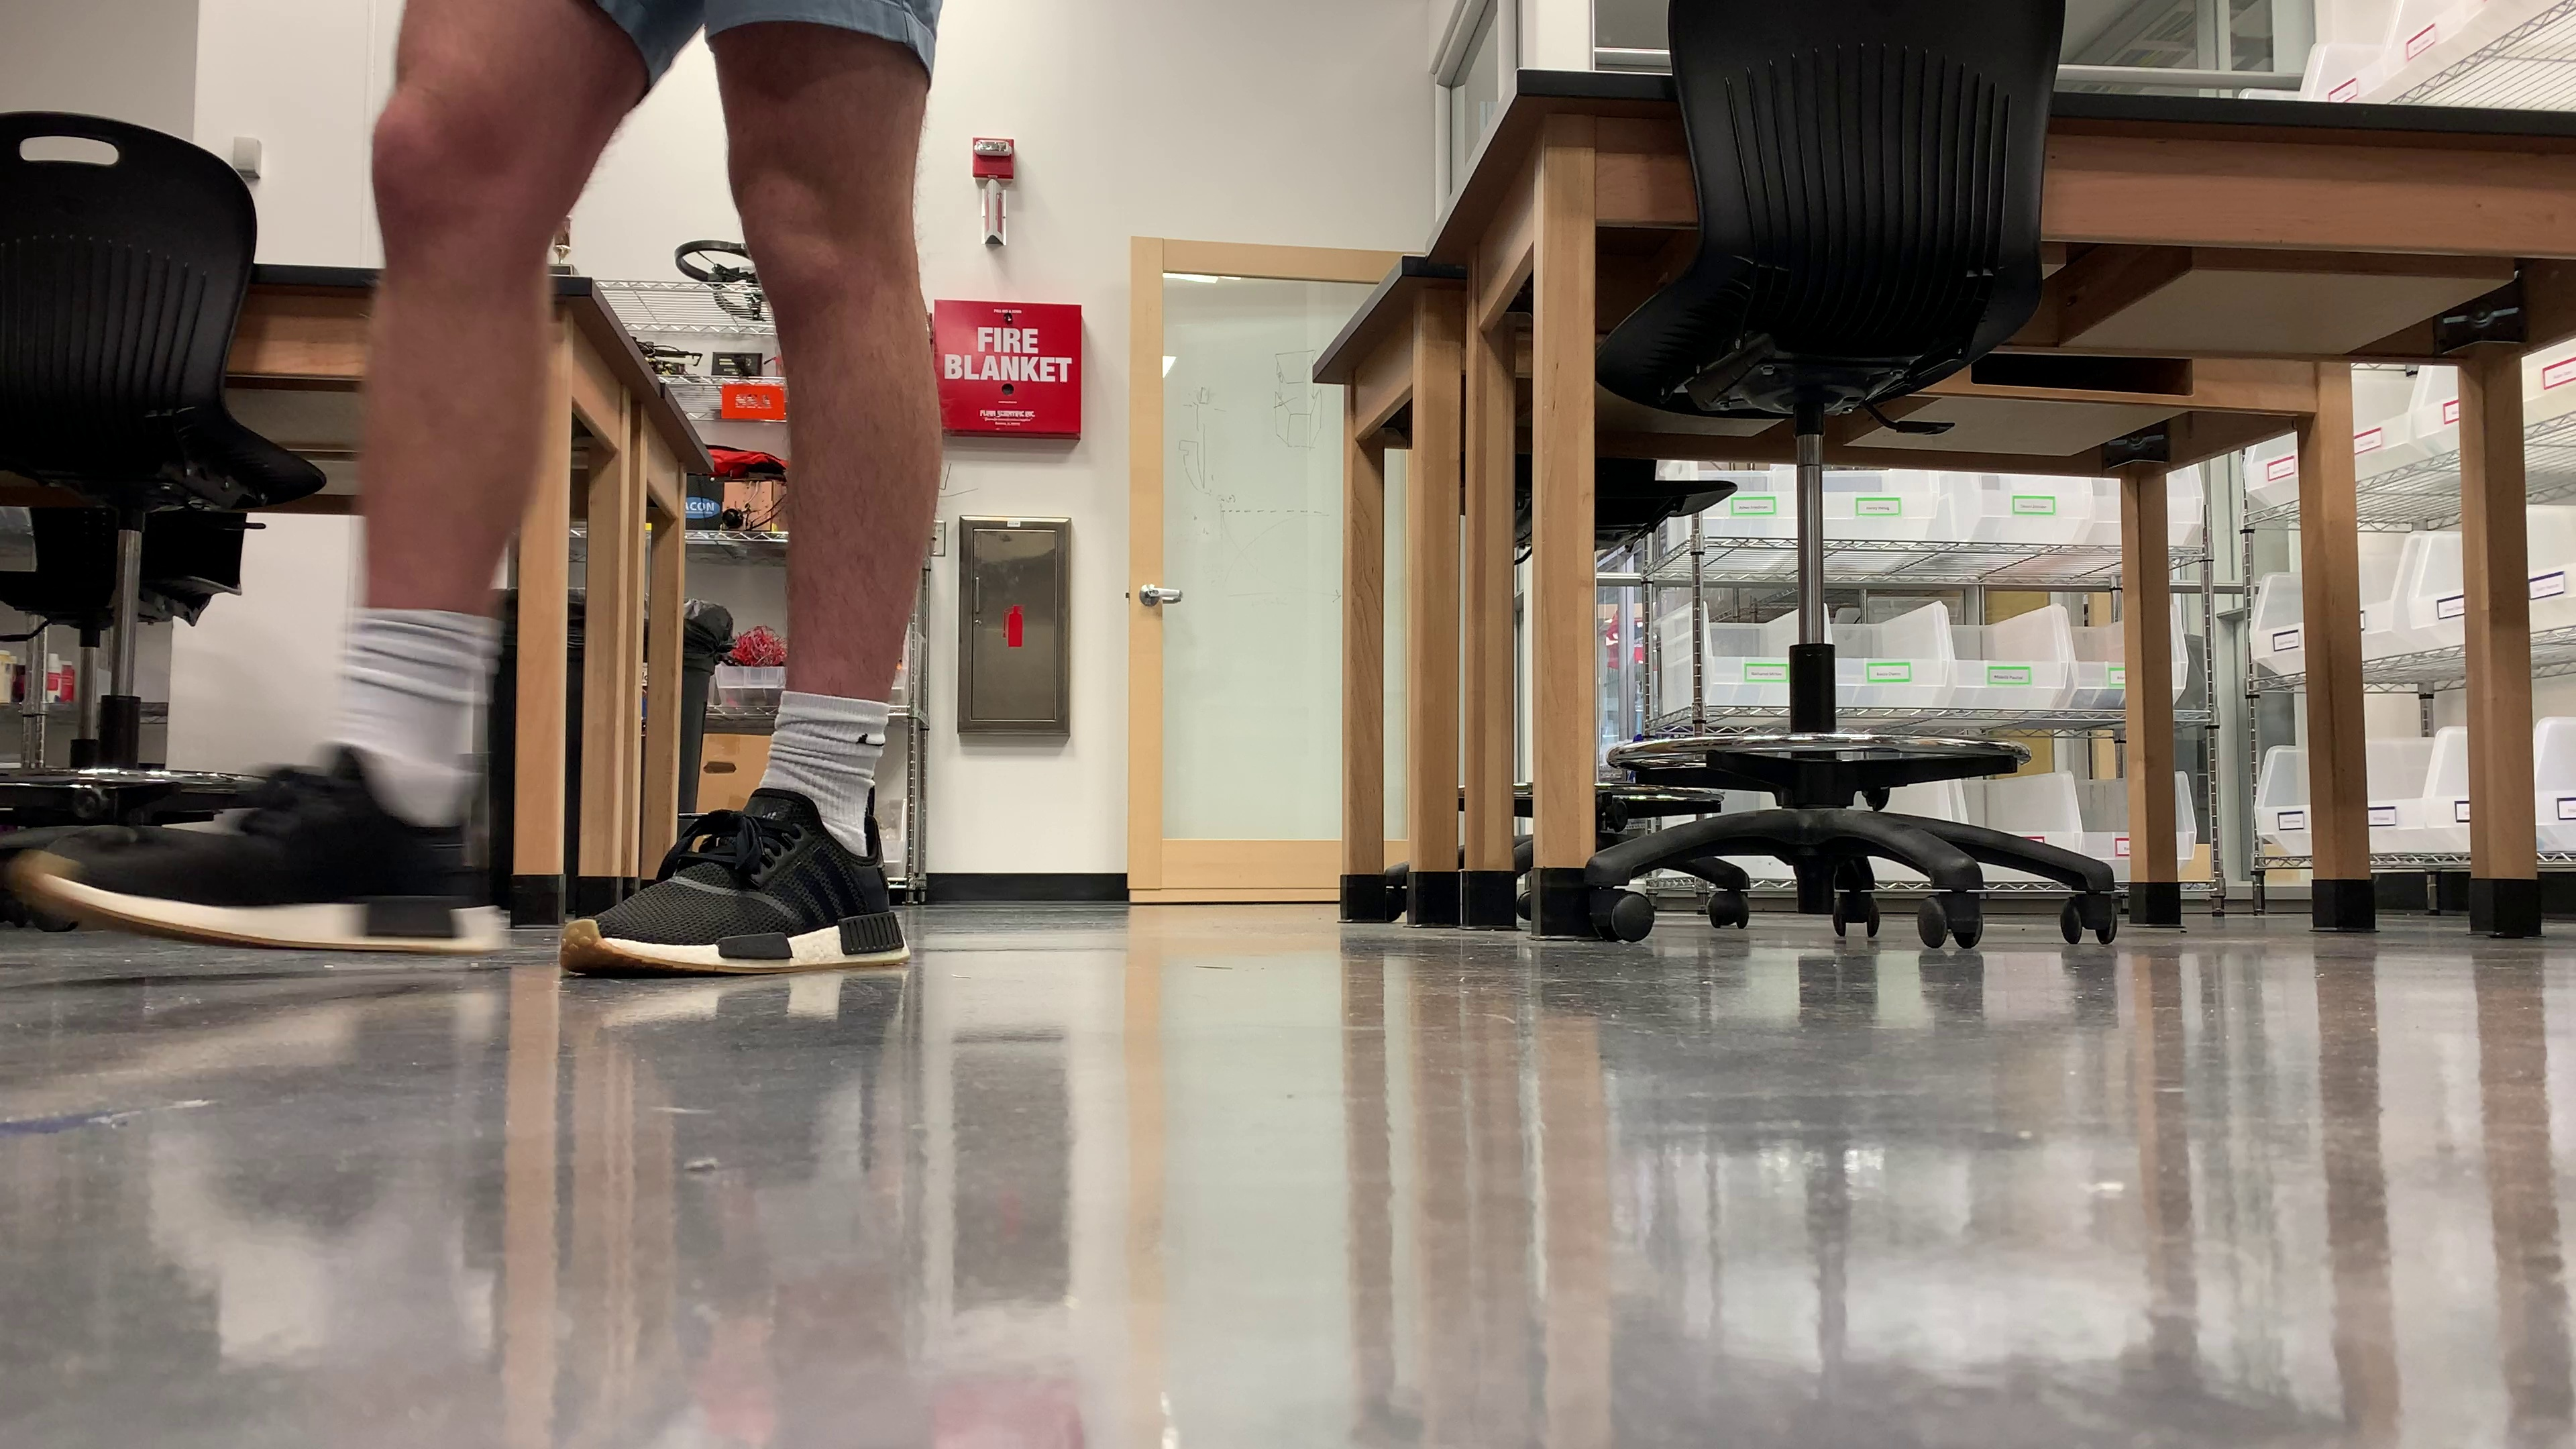shoe: (563, 789, 911, 973)
